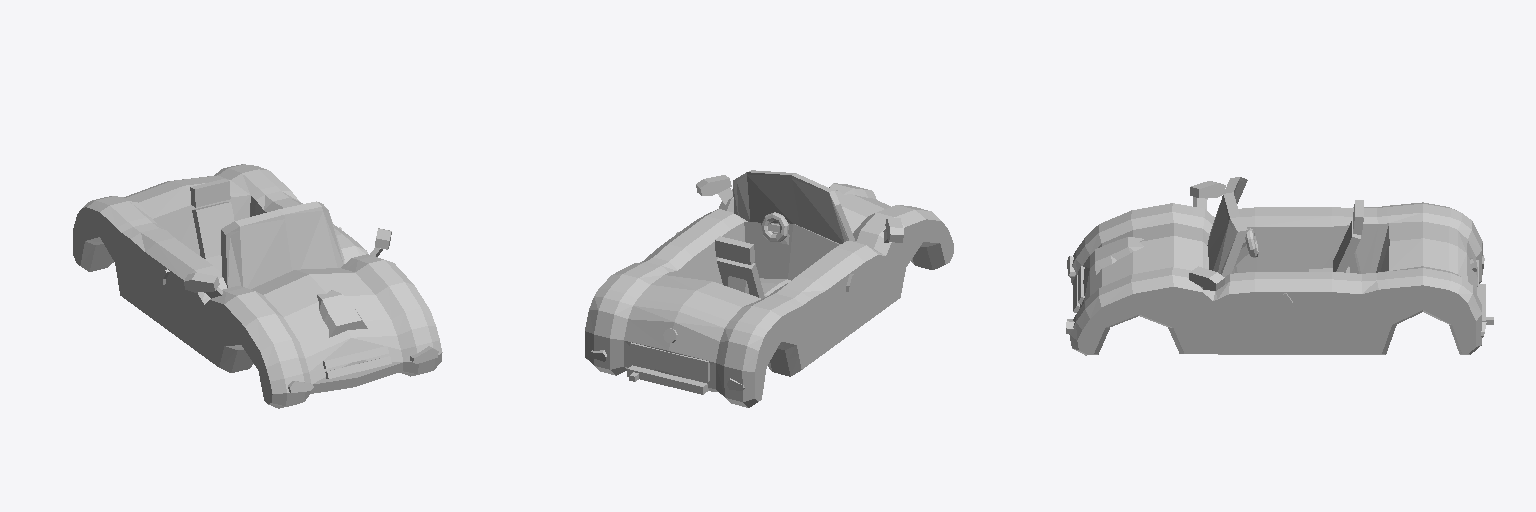
File: Car_3.obj
The picture shows the model from 3 angles: view 1: azimuth 30°, elevation 25°; view 2: azimuth 150°, elevation 25°; view 3: azimuth 270°, elevation 25°; orthographic projection.
Parts seen in each view (by area): view 1: Car_3; view 2: Car_3; view 3: Car_3.
Boxes of the visible parts, x1=… form: Car_3: x1=73, y1=164, x2=442, y2=408; Car_3: x1=585, y1=170, x2=953, y2=407; Car_3: x1=1066, y1=177, x2=1493, y2=355.
Size of the model in its own units: 248 by 145 by 441.